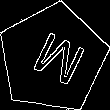M_SW: (21, 25, 84, 91)
